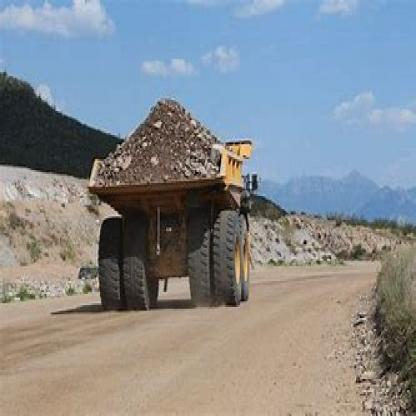dump_truck: (80, 87, 266, 311)
